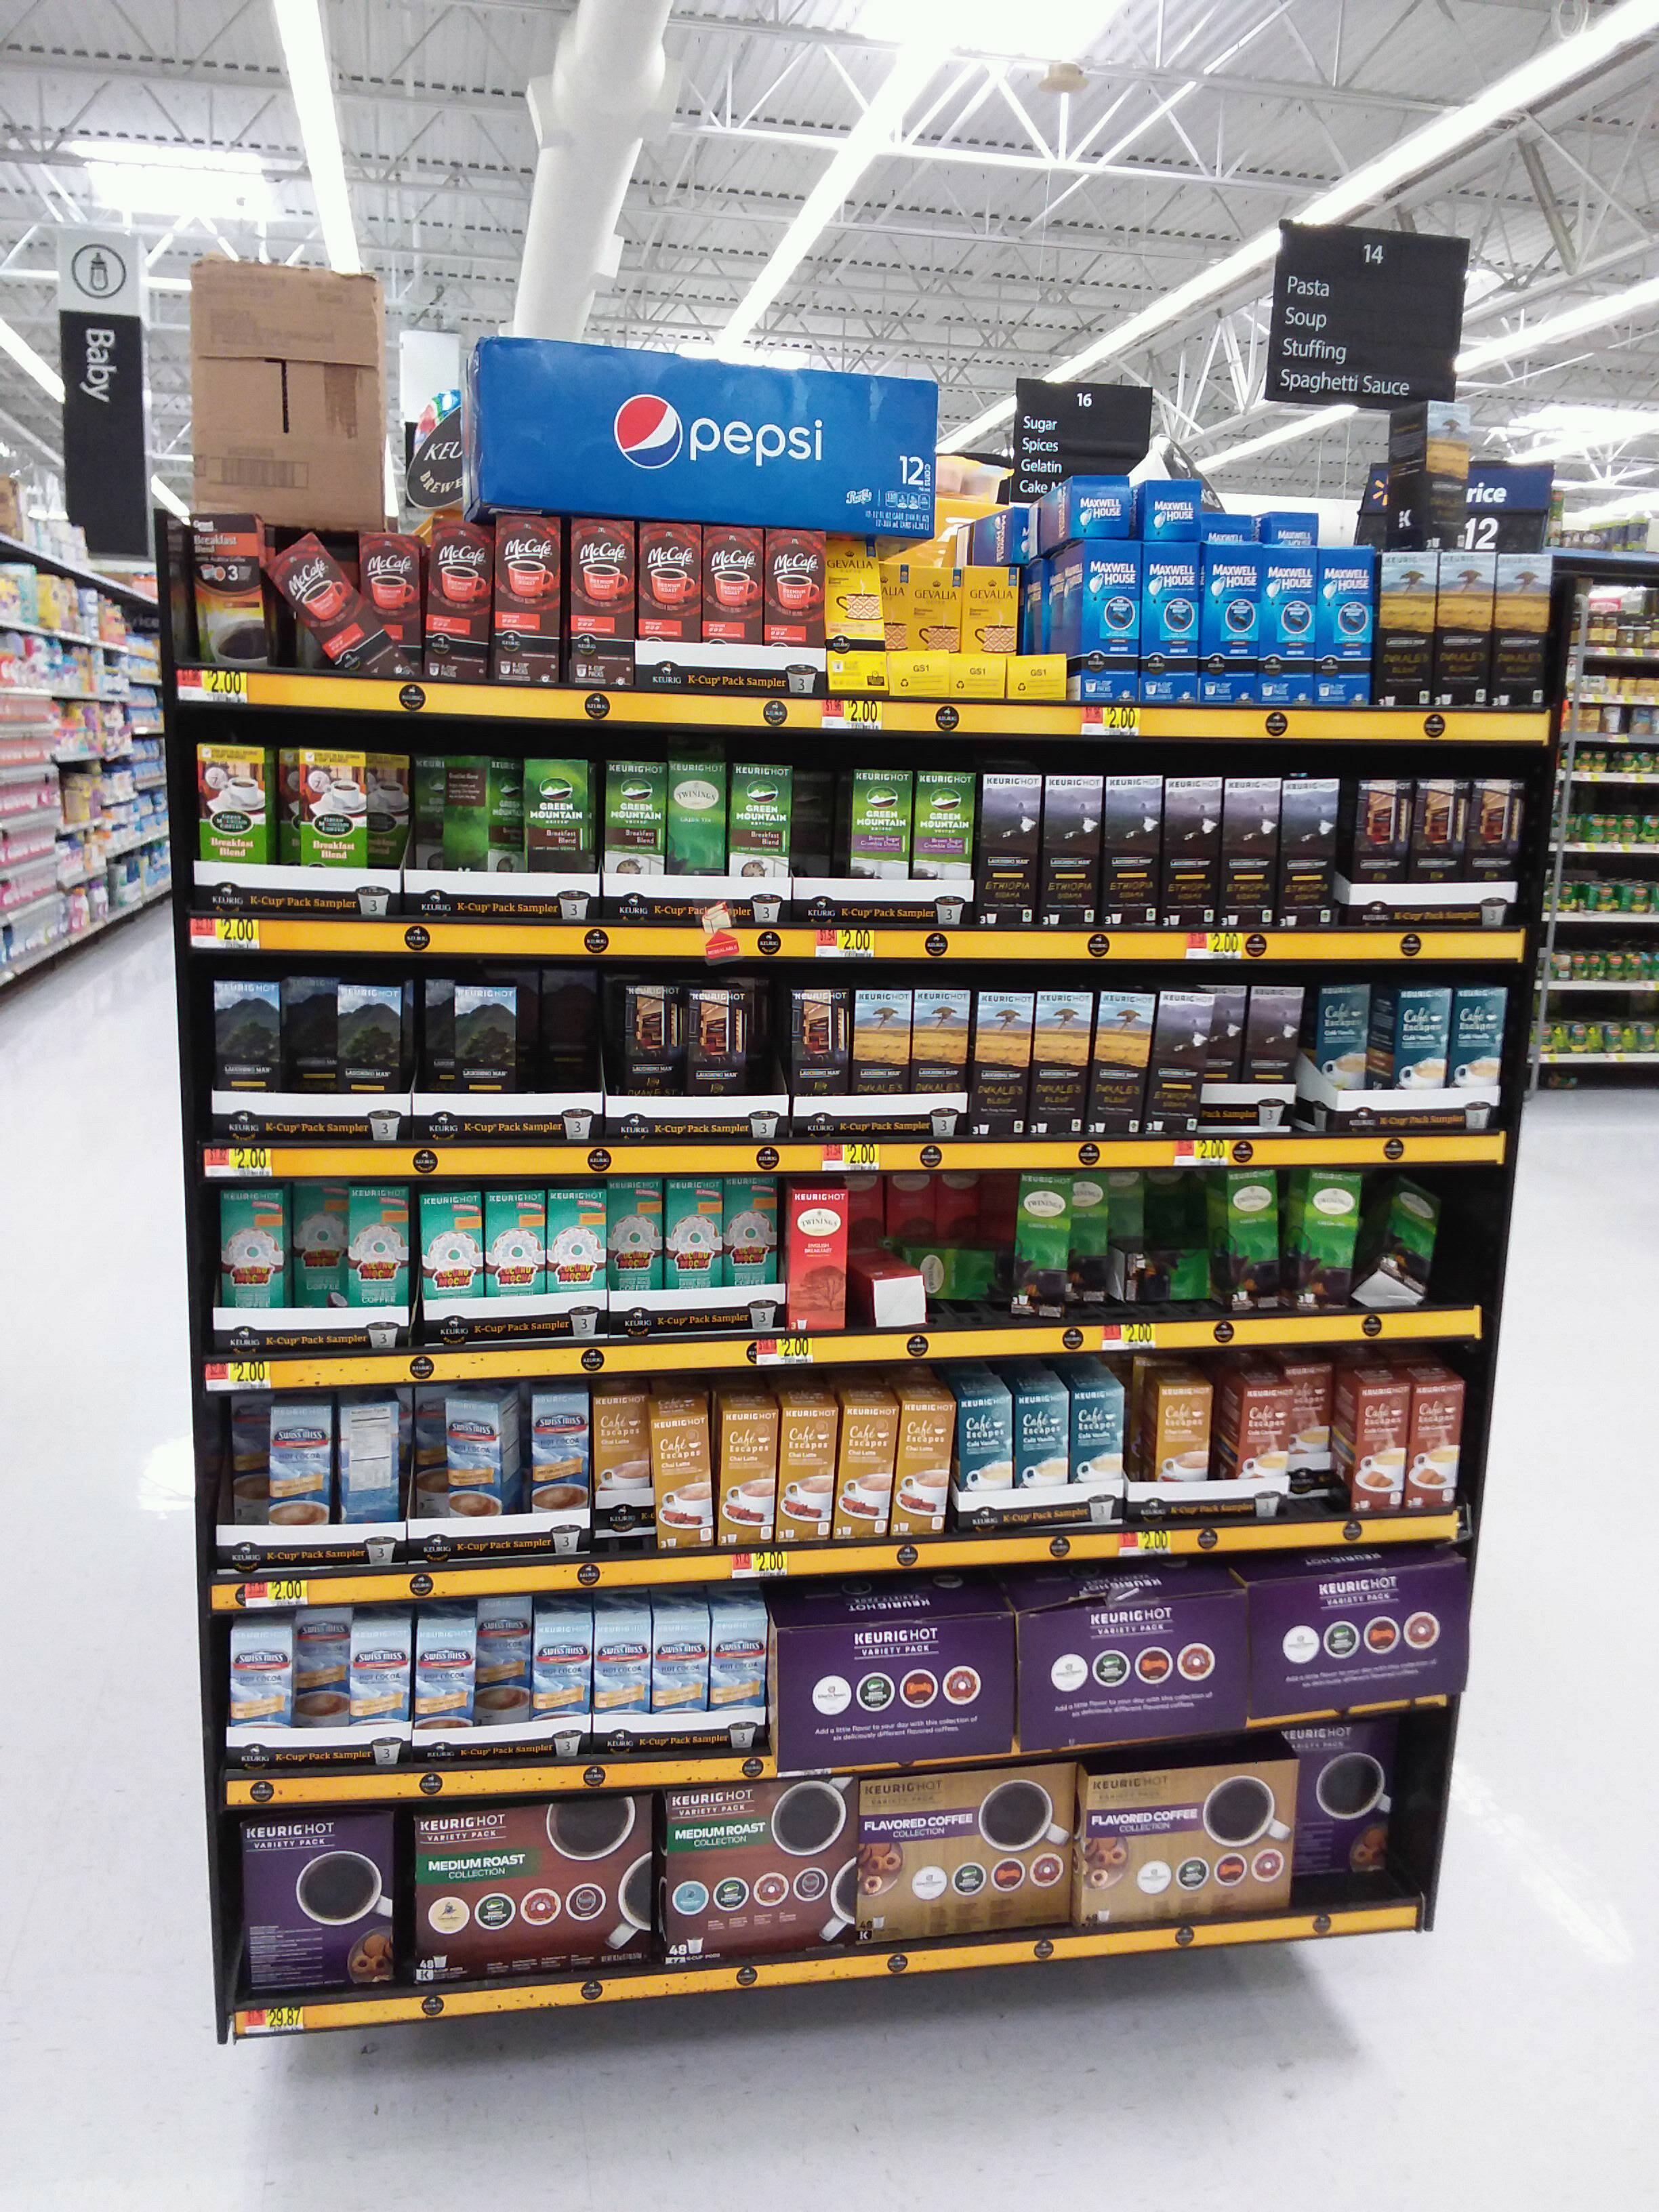Misplacement: (525, 974, 601, 1097)
